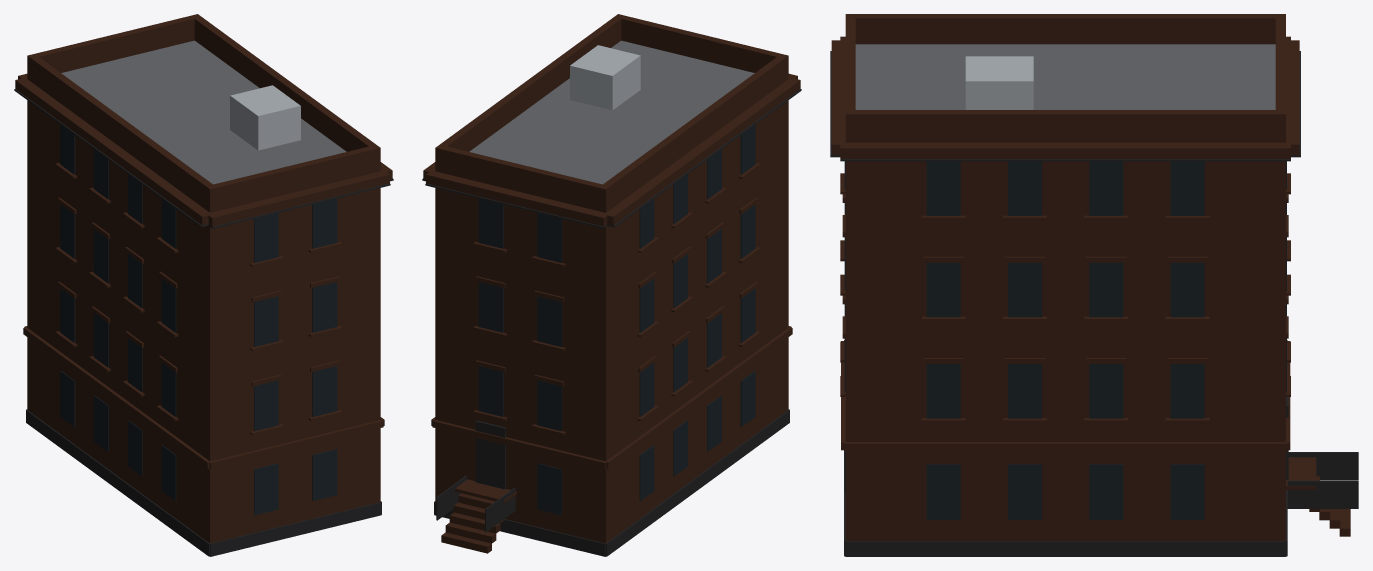
File: B_BROWNSTONE.glb
3 renders of one model, left to right at view 1: azimuth 30°, elevation 25°; view 2: azimuth 150°, elevation 25°; view 3: azimuth 270°, elevation 25°, orthographic. The views are drawn at different scales.
Visible parts, largest first — view 1: propBrick_0, glass_2, roofMetal_3, tread_1, steel_4; view 2: propBrick_0, glass_2, roofMetal_3, tread_1, steel_4; view 3: propBrick_0, glass_2, roofMetal_3, tread_1, steel_4.
Boxes of the visible parts, bbox=[...] form: propBrick_0: bbox=[15, 14, 392, 543]; glass_2: bbox=[60, 124, 337, 515]; roofMetal_3: bbox=[61, 40, 346, 184]; tread_1: bbox=[14, 89, 393, 556]; steel_4: bbox=[230, 85, 300, 150]; propBrick_0: bbox=[423, 14, 800, 553]; glass_2: bbox=[478, 124, 755, 515]; roofMetal_3: bbox=[469, 40, 754, 184]; tread_1: bbox=[422, 89, 801, 556]; steel_4: bbox=[570, 45, 640, 110]; propBrick_0: bbox=[831, 14, 1350, 540]; glass_2: bbox=[844, 161, 1286, 519]; roofMetal_3: bbox=[855, 44, 1275, 109]; tread_1: bbox=[830, 51, 1358, 556]; steel_4: bbox=[965, 56, 1033, 109].
Bounding box in the file's own units: 7.9 × 14.9 × 15.6.
